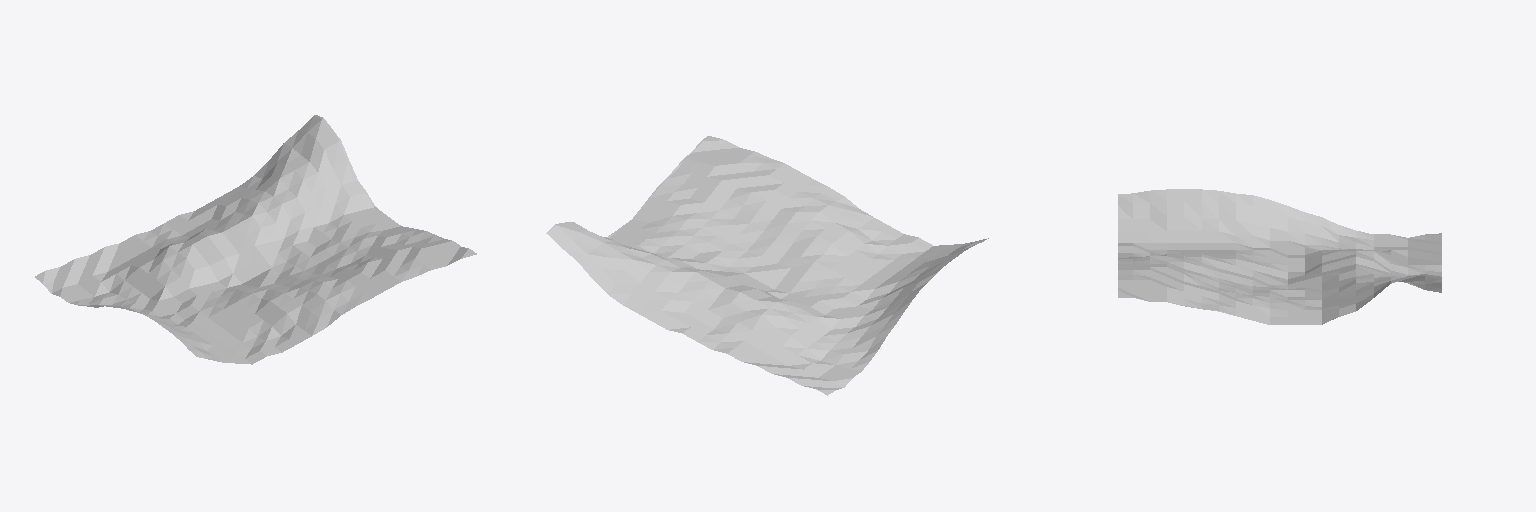
The model's file is terrain_-21_27.obj.
3 views of the same model, side by side, from view 1: azimuth 30°, elevation 25°; view 2: azimuth 150°, elevation 25°; view 3: azimuth 270°, elevation 25° (orthographic).
Visible parts, largest first — view 1: terrain_-21_27_Plane.025; view 2: terrain_-21_27_Plane.025; view 3: terrain_-21_27_Plane.025.
Part boxes in pixels (x1,y1,x2,y2): terrain_-21_27_Plane.025: (35, 115, 476, 364); terrain_-21_27_Plane.025: (546, 136, 988, 395); terrain_-21_27_Plane.025: (1118, 189, 1441, 324).
Size of the model in its own units: 32 by 10.98 by 32.